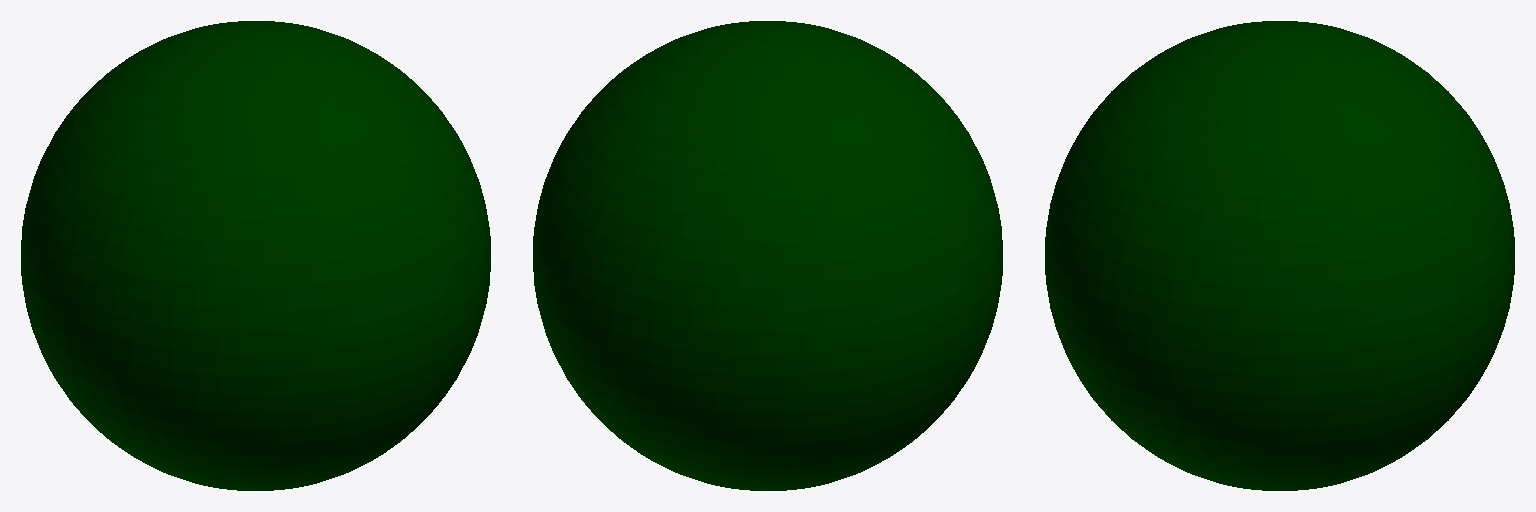
The model's file is world.obj.
3 renders of one model, left to right at view 1: azimuth 30°, elevation 25°; view 2: azimuth 150°, elevation 25°; view 3: azimuth 270°, elevation 25°, orthographic.
Parts seen in each view (by area): view 1: Sphere.001; view 2: Sphere.001; view 3: Sphere.001.
Part boxes in pixels (left/top/right/bottom): Sphere.001: left=21, top=21, right=490, bottom=490; Sphere.001: left=533, top=21, right=1002, bottom=490; Sphere.001: left=1045, top=21, right=1514, bottom=490.
Bounding box in the file's own units: 2 × 2 × 2.